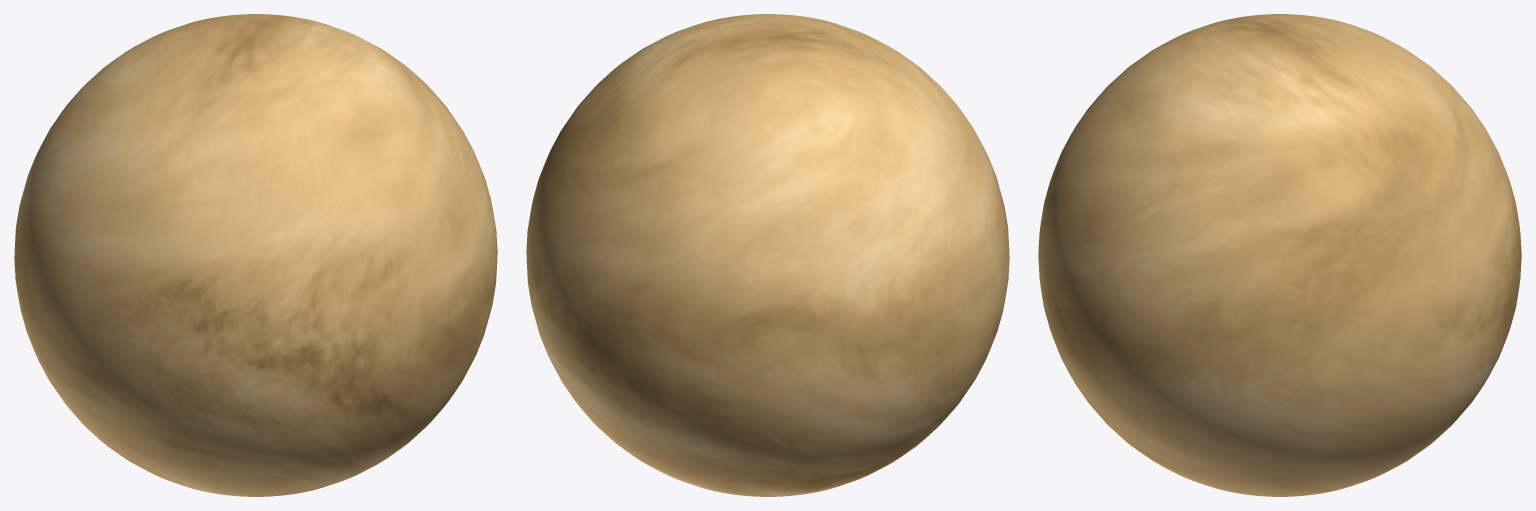
File: Venus.obj
The picture shows the model from 3 angles, left to right: view 1: azimuth 30°, elevation 25°; view 2: azimuth 150°, elevation 25°; view 3: azimuth 270°, elevation 25°; orthographic projection.
Visible parts, largest first — view 1: Venus; view 2: Venus; view 3: Venus.
Part boxes in pixels (x1,y1,x2,y2): Venus: [14, 14, 497, 496]; Venus: [526, 14, 1009, 496]; Venus: [1038, 14, 1521, 496].
Bounding box in the file's own units: 4.86 × 4.86 × 4.86.
Materials: 2 (2 with a texture image).
